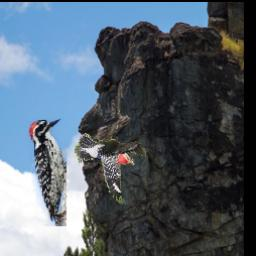Woodpecker: (76, 133, 147, 204), (28, 119, 67, 227)
